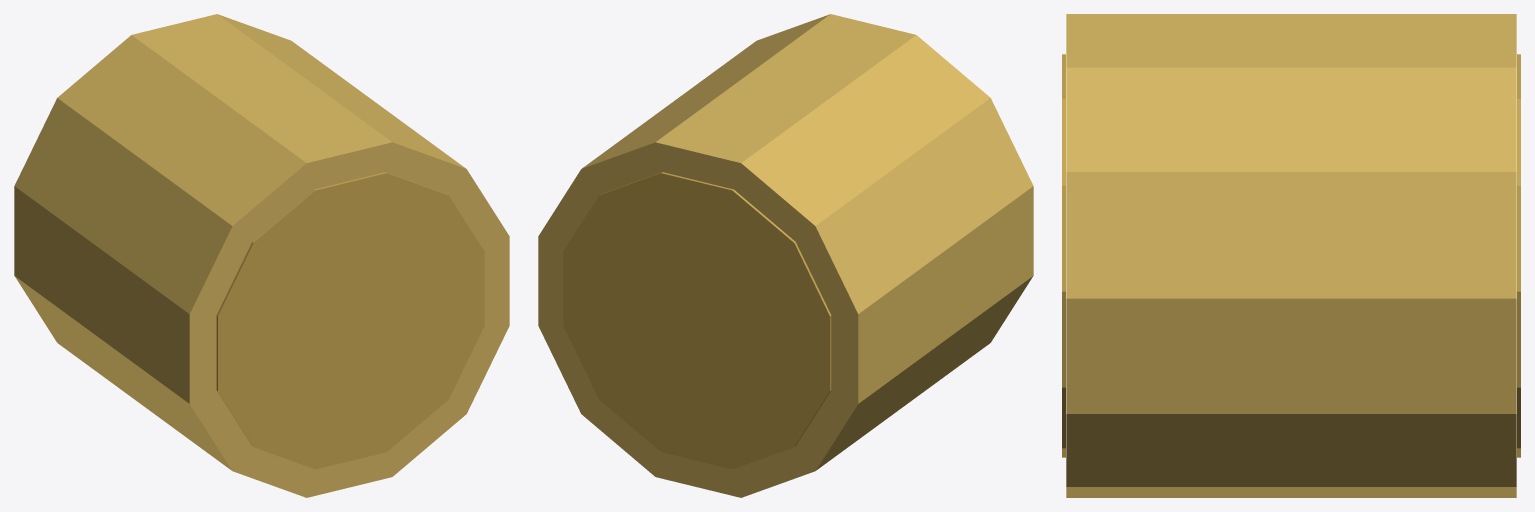
The model's file is hay_bale_round.glb.
3 renders of one model, left to right at view 1: azimuth 30°, elevation 25°; view 2: azimuth 150°, elevation 25°; view 3: azimuth 270°, elevation 25°, orthographic. The views are drawn at different scales.
Visible parts, largest first — view 1: hay_bale_round; view 2: hay_bale_round; view 3: hay_bale_round.
Boxes of the visible parts, x1=… form: hay_bale_round: x1=14, y1=14, x2=509, y2=497; hay_bale_round: x1=538, y1=14, x2=1033, y2=497; hay_bale_round: x1=1062, y1=14, x2=1520, y2=497.
Bounding box in the file's own units: 1.16 × 1.16 × 1.12.
